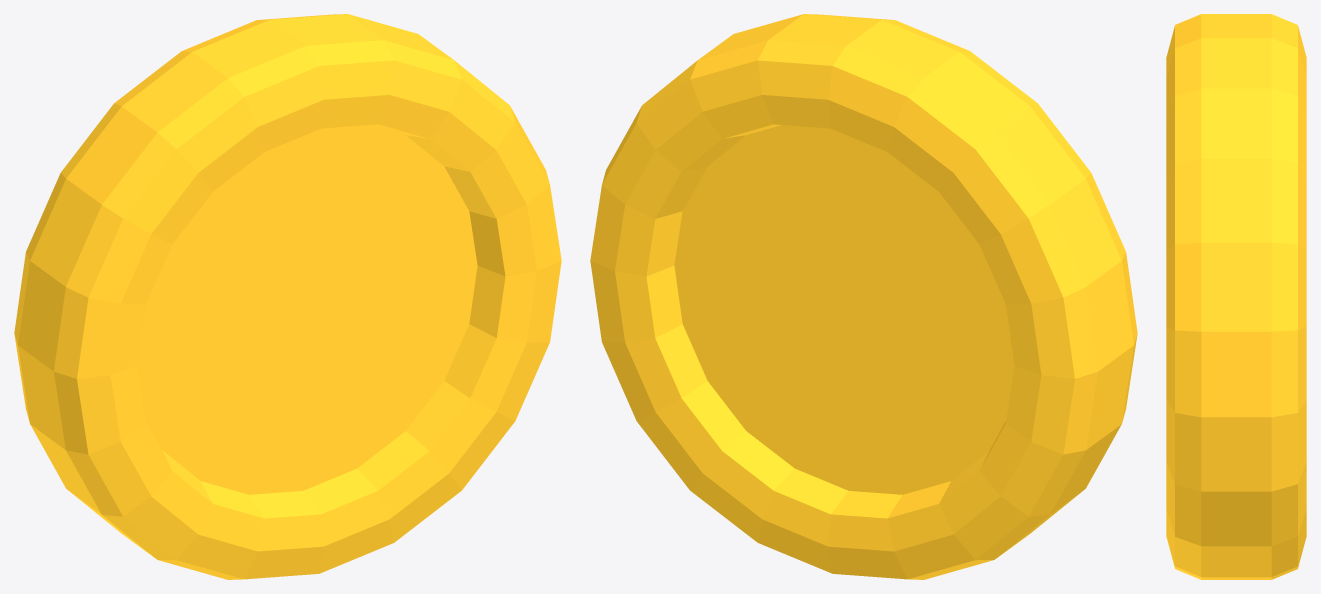
The model's file is coin.glb.
3 views of the same model, side by side, from view 1: azimuth 30°, elevation 25°; view 2: azimuth 150°, elevation 25°; view 3: azimuth 270°, elevation 25° (orthographic). The views are drawn at different scales.
Visible parts, largest first — view 1: Coin; view 2: Coin; view 3: Coin.
Boxes of the visible parts, left/top/right/bottom form: Coin: left=14, top=14, right=561, bottom=579; Coin: left=590, top=14, right=1137, bottom=579; Coin: left=1166, top=14, right=1306, bottom=579.
Size of the model in its own units: 73.67 by 73.77 by 18.12.
